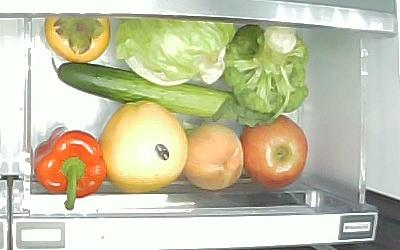apple: (244, 113, 309, 192)
broccoli: (226, 24, 310, 113)
cucumber: (55, 61, 240, 120)
grapefruit: (101, 102, 188, 192)
lettuce: (114, 18, 234, 85)
paprika: (32, 126, 105, 210)
peach: (186, 122, 244, 191)
persimmon: (44, 17, 111, 64)
